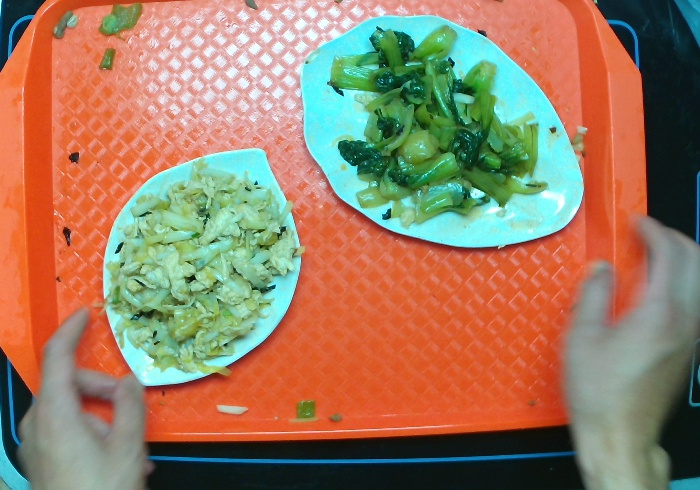RJxy-Bai_Ye_Pan: (290, 8, 593, 256)
RJxy-Da_Du_Pan: (93, 144, 309, 393)
